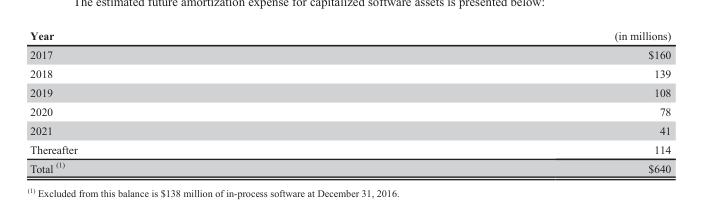table: (29, 28, 670, 174)
table column: (345, 28, 670, 174), (29, 28, 345, 174)
table column header: (29, 28, 670, 44)
table row: (29, 44, 670, 63), (29, 63, 670, 82), (29, 82, 670, 101), (29, 101, 670, 120), (29, 120, 670, 139), (29, 139, 670, 157), (29, 157, 670, 174), (29, 28, 670, 44)
